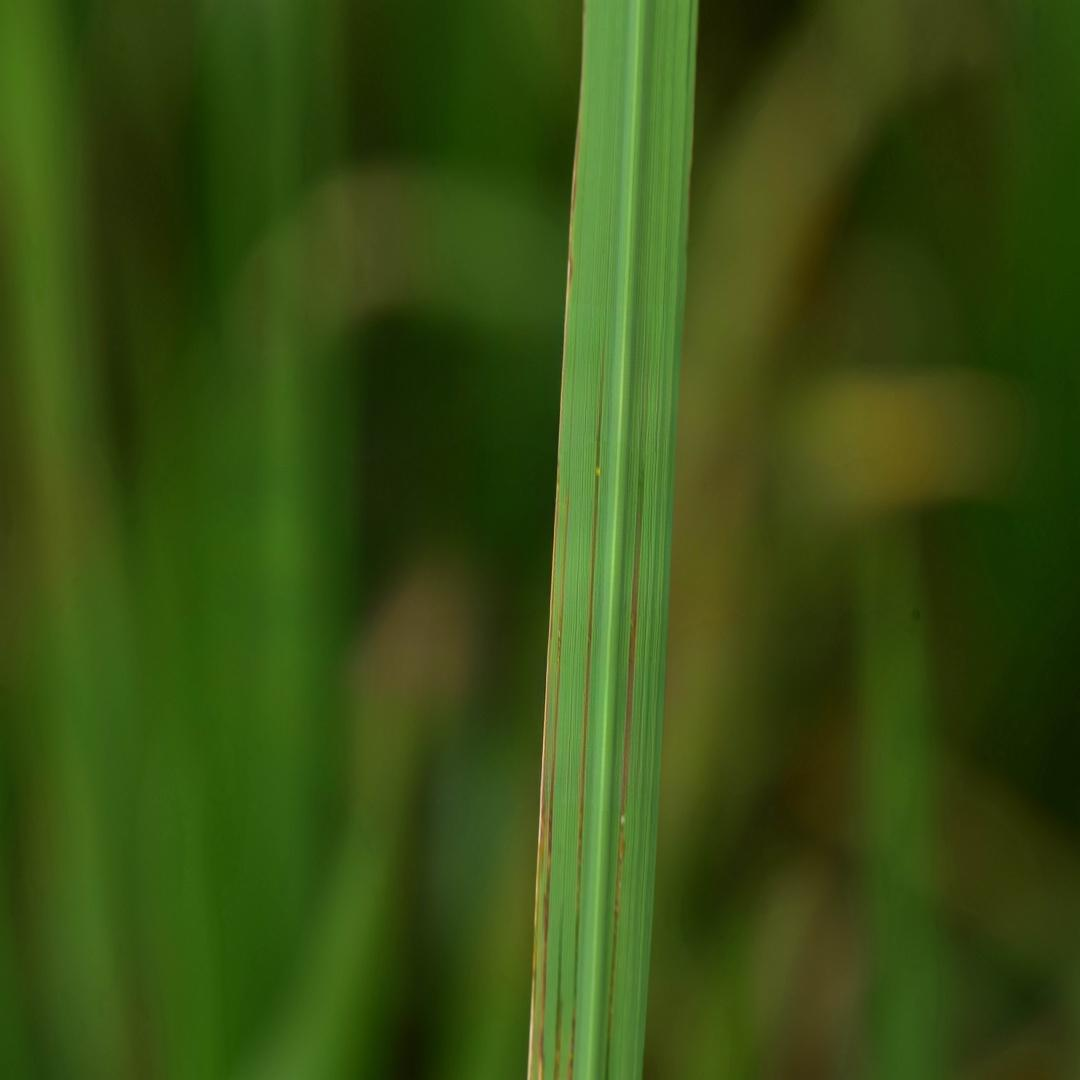BLS: (528, 0, 587, 1079), (567, 344, 604, 1079), (605, 525, 641, 1079), (554, 968, 563, 1079)
LEAF: (527, 0, 697, 1079)
